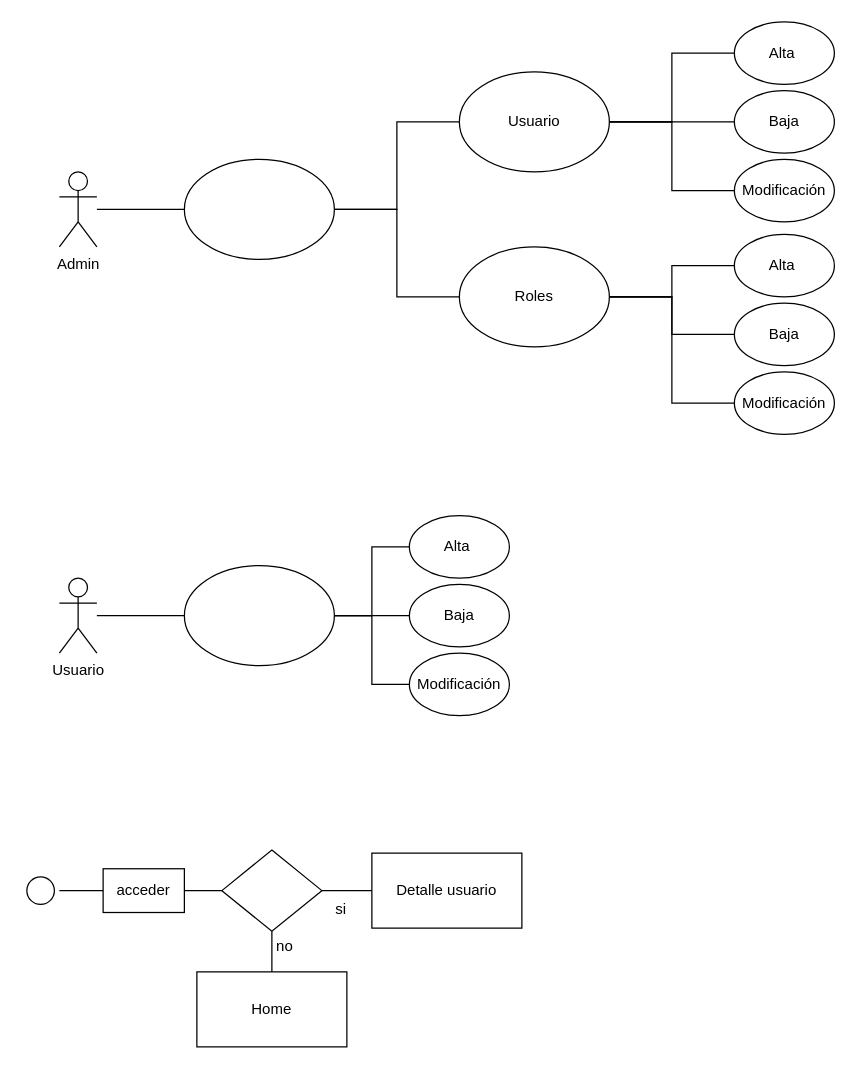
This 856x1069 diagram has some shape labels left out. Each missing label, with the centre of its shape:
Gestiona citas: point 258,615
Gestión Usuarios: point 258,208
¿es registro?: point 271,890
